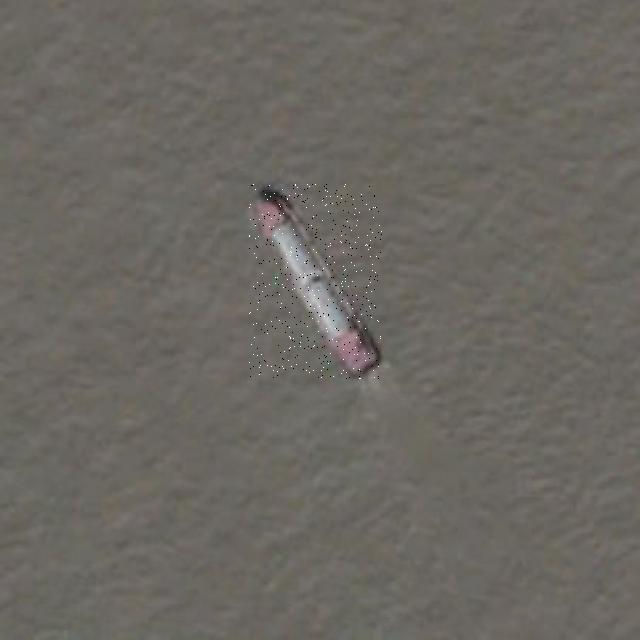boat: (249, 184, 382, 379)
